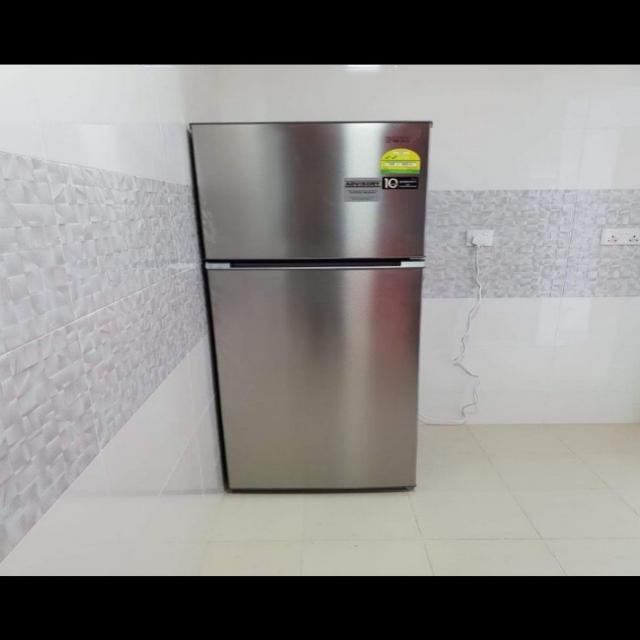refrigerator: (185, 119, 436, 496)
